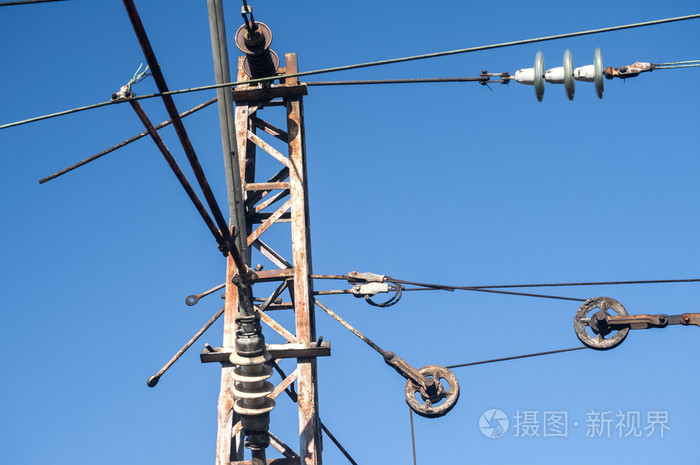insulator: (529, 45, 613, 104), (228, 346, 277, 418)
